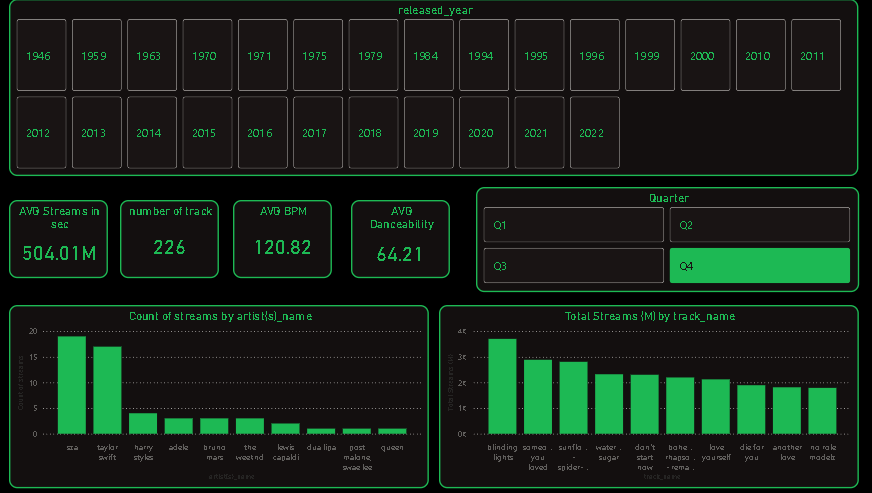

The dashboard page shown, as its layout file describes it:
{"tool":"powerbi","page":{"name":"Page 4","canvas":[1280,720],"ordinal":3},"visuals":[{"type":"columnChart","fields":{"Category":["spotify-2023.artist(s)_name"],"Y":["CountNonNull(spotify-2023.streams)"]},"box":[19.1,441.9,606.9,265.1],"z":0},{"type":"columnChart","fields":{"Category":["spotify-2023.track_name"],"Y":["spotify-2023.Total Streams (M)"]},"box":[640.7,441.9,606.9,265.1],"z":1000},{"type":"advancedSlicerVisual","fields":{"Values":["spotify-2023.released_year"]},"box":[19.1,0,1228.4,256.3],"z":2000},{"type":"card","title":"AVG Streams in sec","fields":{"Values":["Avg(spotify-2023.streams)"]},"box":[19.1,290.2,142.9,113.4],"z":3000},{"type":"card","title":"number of track","fields":{"Values":["Count(spotify-2023.track_name)"]},"box":[179.7,290.2,142.9,113.4],"z":4000},{"type":"card","title":"AVG BPM","fields":{"Values":["Avg(spotify-2023.bpm)"]},"box":[343.2,290.2,142.9,113.4],"z":5000},{"type":"card","title":"AVG Danceability","fields":{"Values":["Avg(spotify-2023.danceability_%)"]},"box":[512.6,290.2,142.9,113.4],"z":6000},{"type":"advancedSlicerVisual","fields":{"Values":["spotify-2023.Quarter"]},"box":[693.8,272.5,553.8,151.7],"z":7000}]}

Visuals, with their boxes in screenshot pixels (x1, y1, x2, y2), scaled from the page's 1280x720 canvas onto the 872x493 screenshot:
columnChart - spotify-2023.artist(s)_name x CountNonNull(spotify-2023.streams): (13, 303, 426, 484)
columnChart - spotify-2023.track_name x spotify-2023.Total Streams (M): (436, 303, 850, 484)
advancedSlicerVisual - spotify-2023.released_year: (13, 0, 850, 175)
"AVG Streams in sec" card: (13, 199, 110, 276)
"number of track" card: (122, 199, 220, 276)
"AVG BPM" card: (234, 199, 331, 276)
"AVG Danceability" card: (349, 199, 447, 276)
advancedSlicerVisual - spotify-2023.Quarter: (473, 187, 850, 290)
